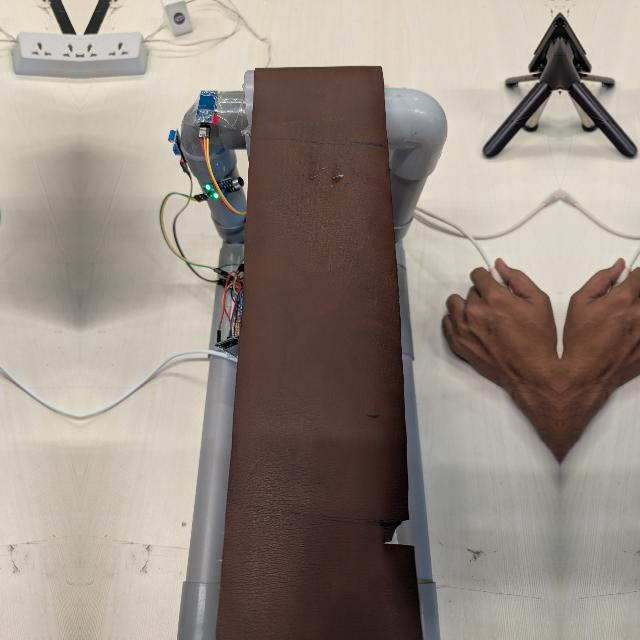belt_crack: (300, 151, 367, 211)
belt_tear: (391, 496, 414, 557)
